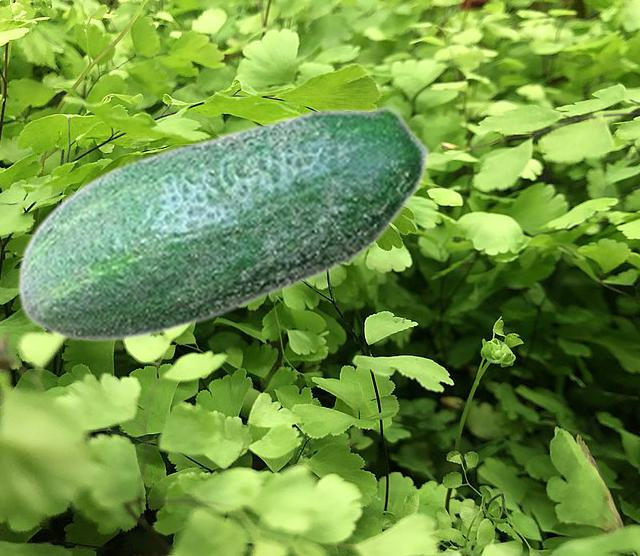cucumber: (16, 105, 430, 341)
